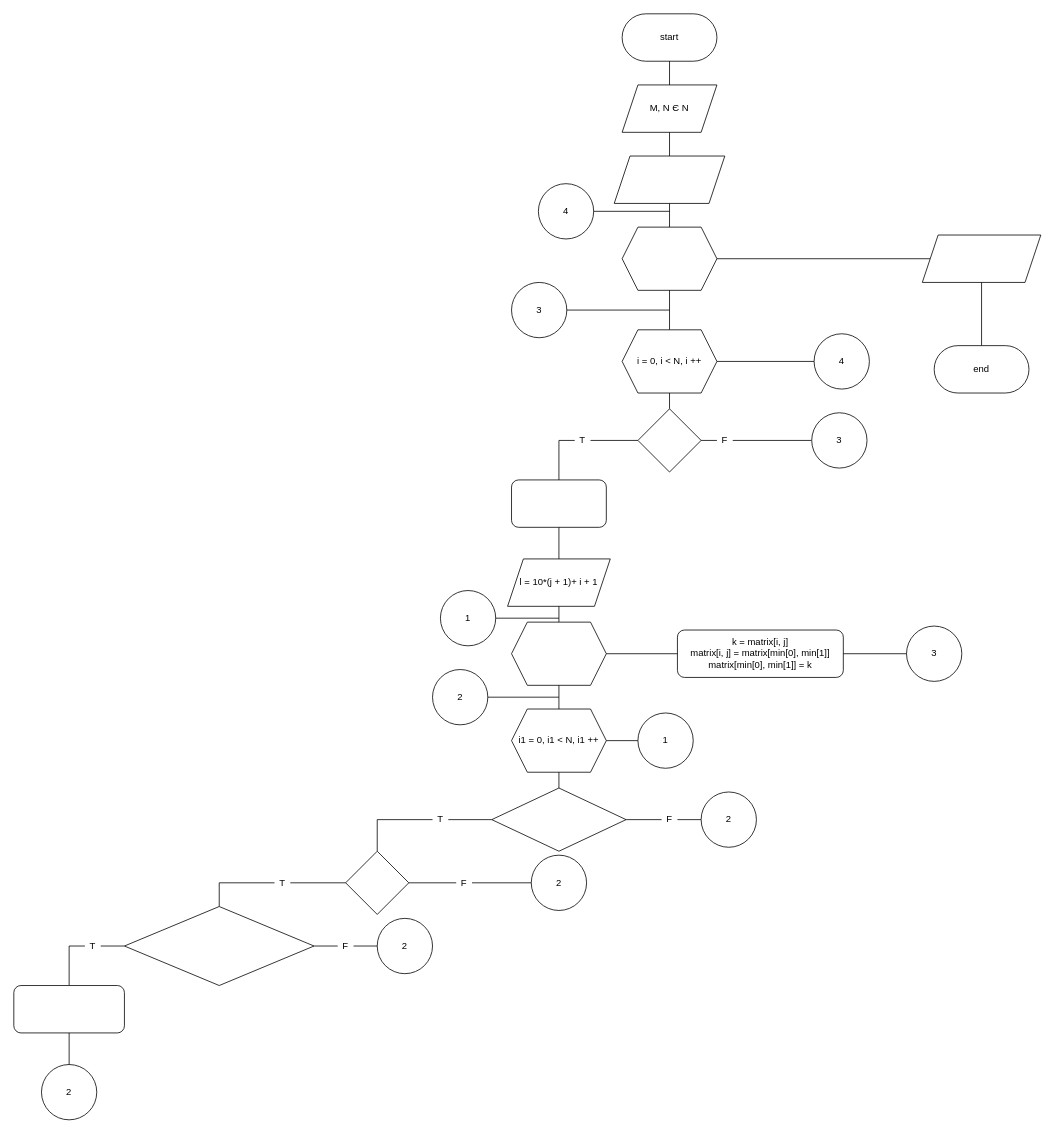
Some shapes in this 1055 by 1134 pixel diagram are drawn without their labels. Each missing label, with the centre of its shape:
i - j > 0: [669,440]
i1 - j1 > 0: [377,882]
j = 0, j < M, j++: [669,258]
j1 = 0, j1 < M, j1 ++: [558,653]
l < 10*(j1 + 1) + i1 + 1: [558,819]
matrix[i1, j1] < matrix[min[0], min[1]]: [219,946]
matrix[M, N](sorted): [981,258]
matrix[M, N], min[2]: [669,179]
min[0] = i, min[1] = j: [558,503]
min[0] = i1, min[1] = j1: [68,1009]
